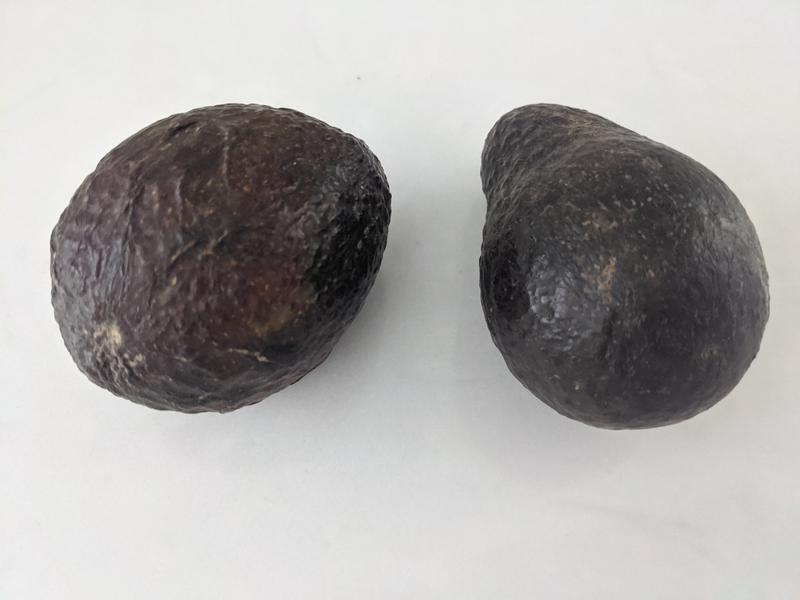avocado: (48, 103, 393, 414), (477, 103, 772, 430)
